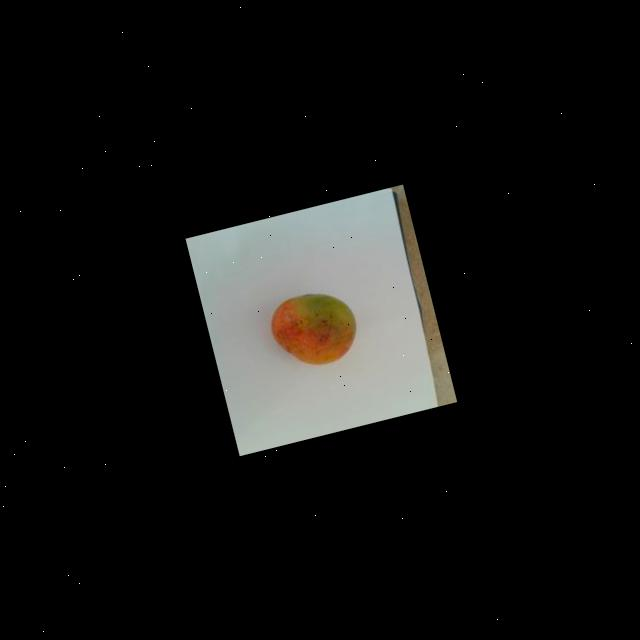Mango: (264, 282, 364, 373)
